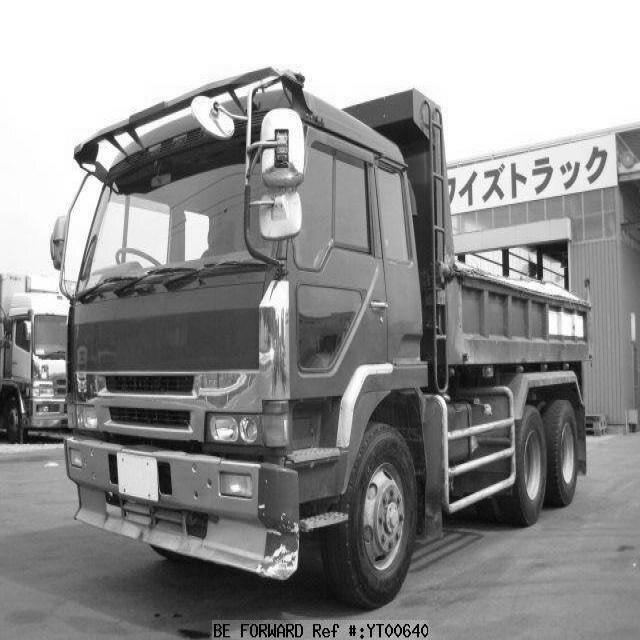truck: (39, 48, 466, 599)
